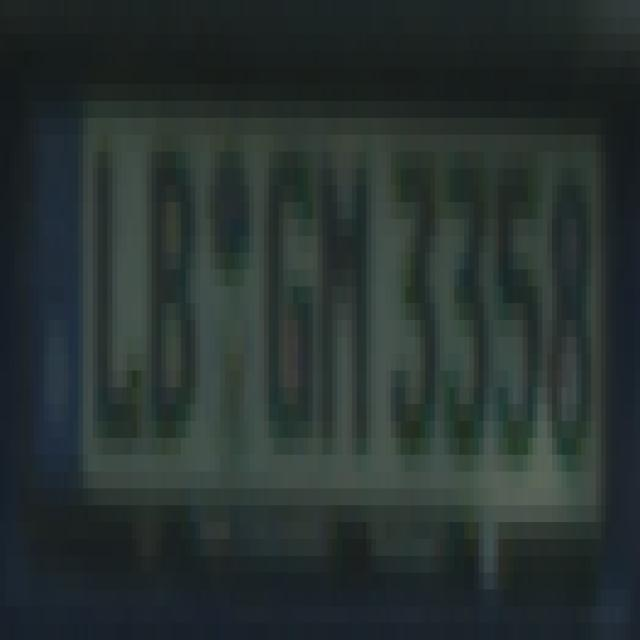Autre: (35, 101, 601, 525)
